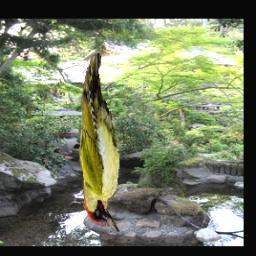Woodpecker: (78, 54, 126, 233)
